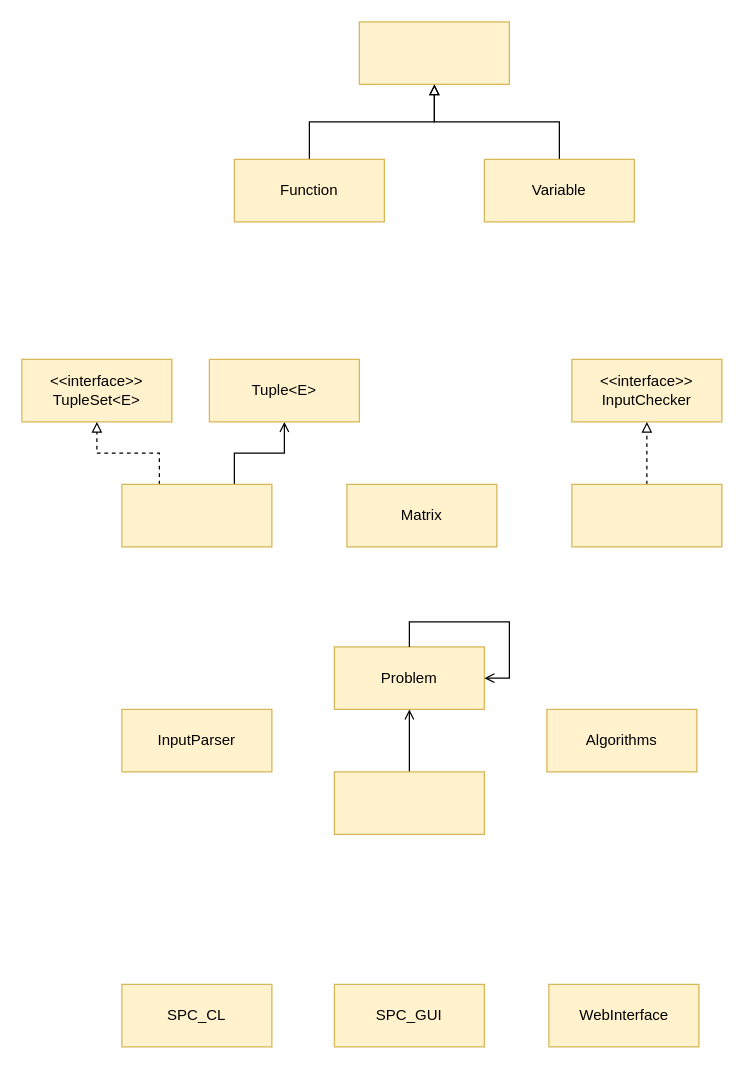
The diagram is 744 pixels wide and 1069 high, and some of its shapes have lost their labels. Here are the shapes that lost their labels. From the top down, the centre of each, then its label:
At (x=433, y=52): "Element".
At (x=196, y=515): "SPCSet".
At (x=646, y=515): "SimpleInputChecker".
At (x=408, y=802): "UnificationProblem".
